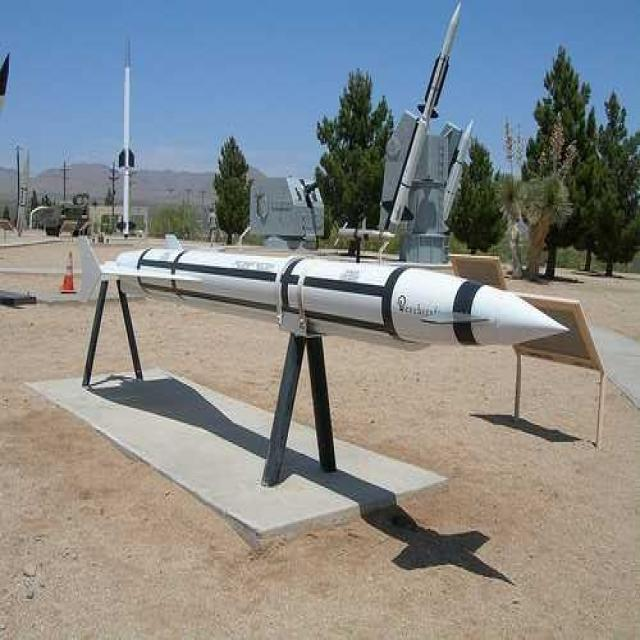missile: (70, 223, 567, 352), (376, 0, 462, 247), (117, 37, 134, 233)
